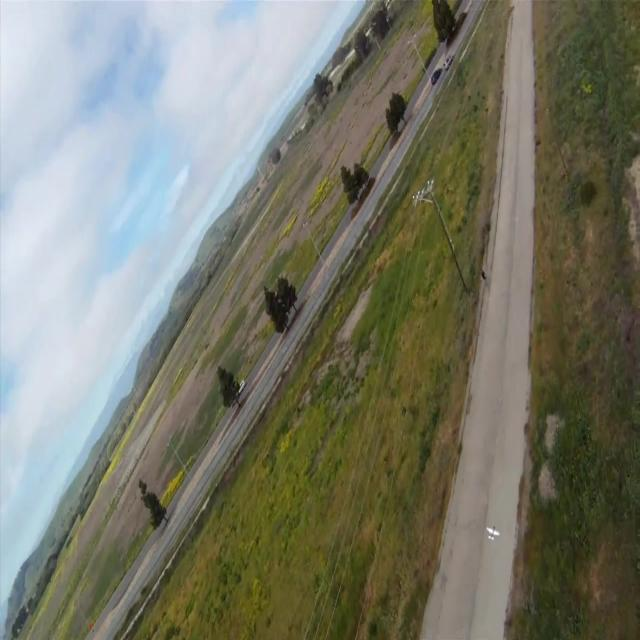iha: (486, 525, 500, 540)
